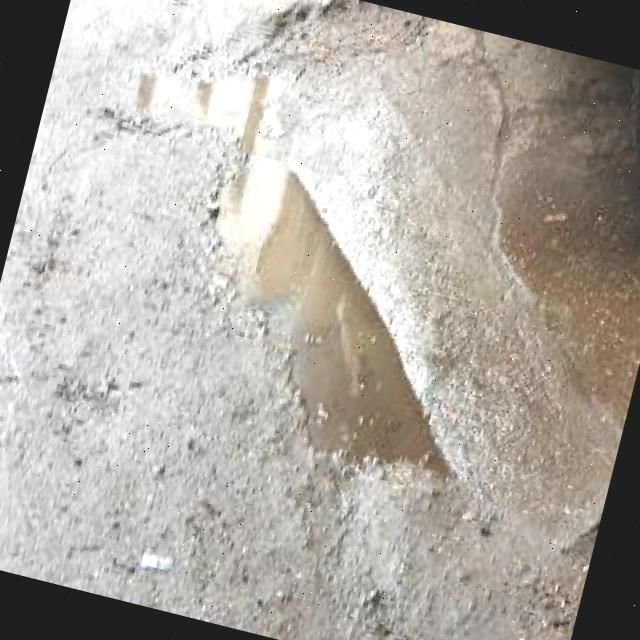stagnation: (31, 33, 550, 506)
